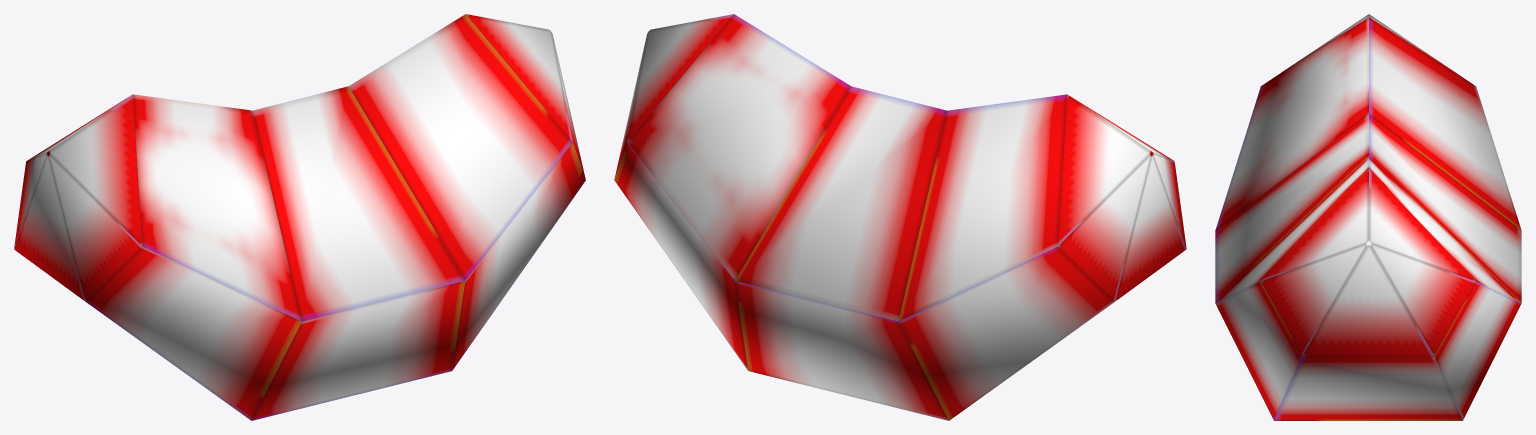
3 renders of one model, left to right at view 1: azimuth 30°, elevation 25°; view 2: azimuth 150°, elevation 25°; view 3: azimuth 270°, elevation 25°, orthographic. The views are drawn at different scales.
Parts seen in each view (by area): view 1: T1L6M002_12; view 2: T1L6M002_12; view 3: T1L6M002_12.
Boxes of the visible parts, x1,y1,x2,y2 form: T1L6M002_12: (14, 14, 585, 420); T1L6M002_12: (614, 14, 1186, 420); T1L6M002_12: (1215, 14, 1521, 420).
Size of the model in its own units: 0.5547 by 0.3213 by 0.3154.
